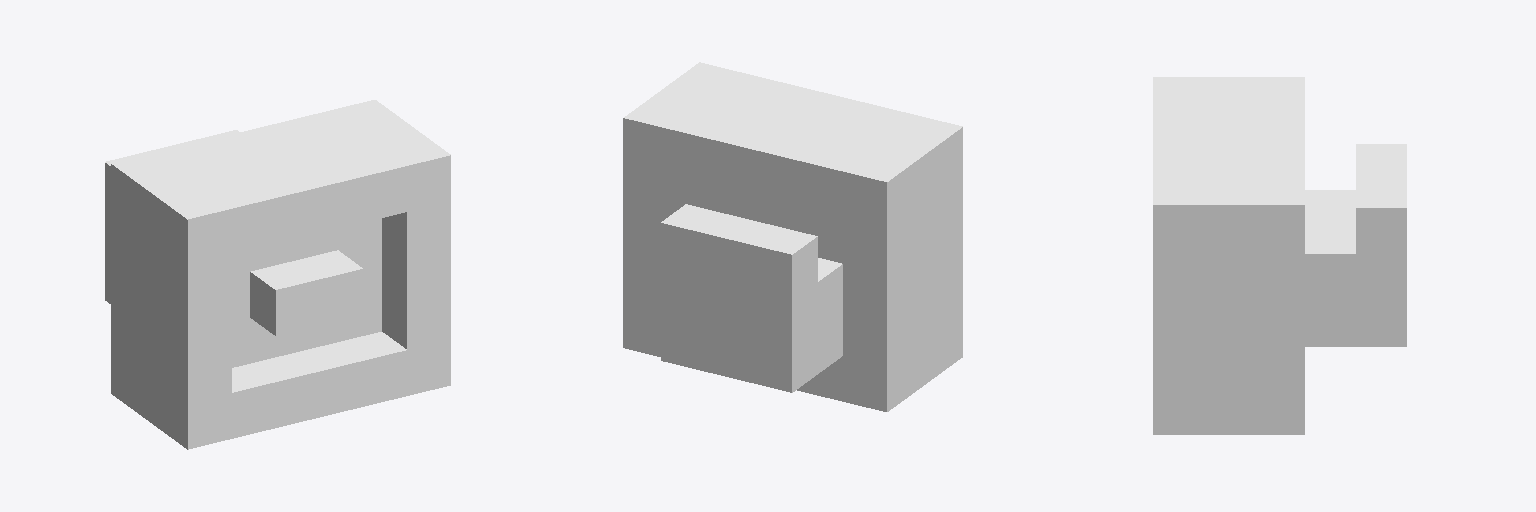
The model's file is intercom.obj.
3 renders of one model, left to right at view 1: azimuth 30°, elevation 25°; view 2: azimuth 150°, elevation 25°; view 3: azimuth 270°, elevation 25°, orthographic.
Parts seen in each view (by area): view 1: object 1; view 2: object 1; view 3: object 1.
Boxes of the visible parts, x1,y1,x2,y2 form: object 1: [105, 100, 450, 449]; object 1: [623, 62, 962, 411]; object 1: [1153, 77, 1406, 434].
Bounding box in the file's own units: 0.6 × 0.5 × 0.5.